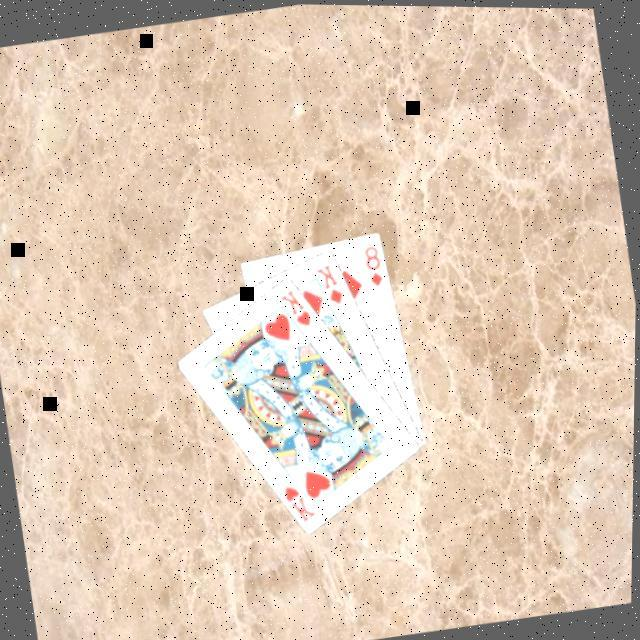8D: (359, 241, 387, 291)
KD: (311, 259, 348, 310)
KH: (274, 284, 315, 333), (279, 478, 320, 527)
